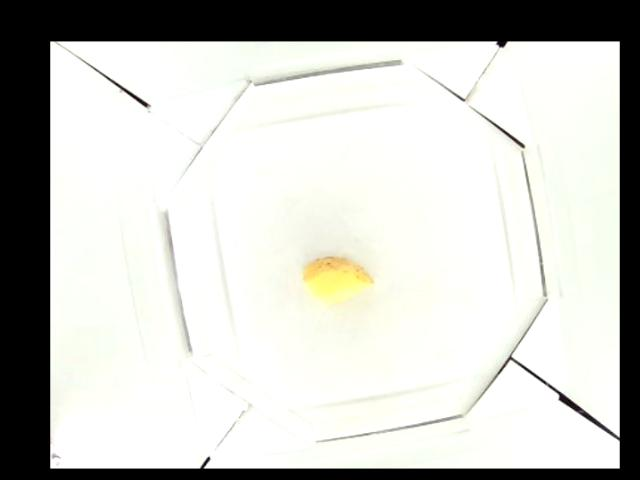Potato: (302, 257, 374, 303)
